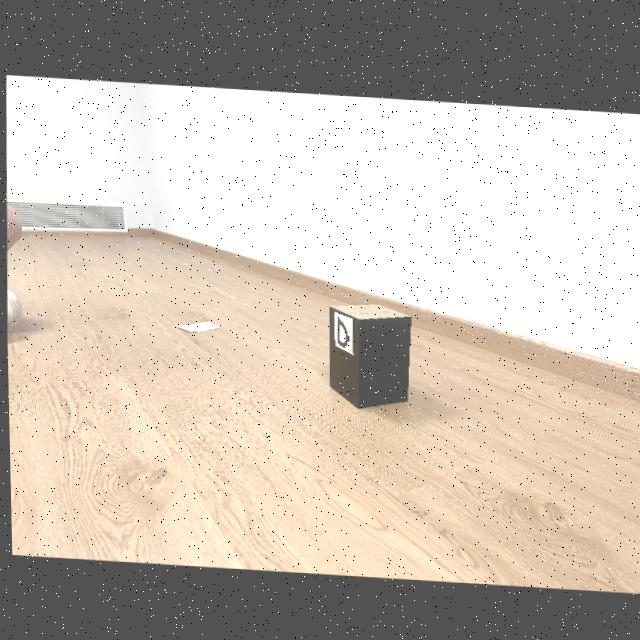D: (336, 313, 347, 344)
